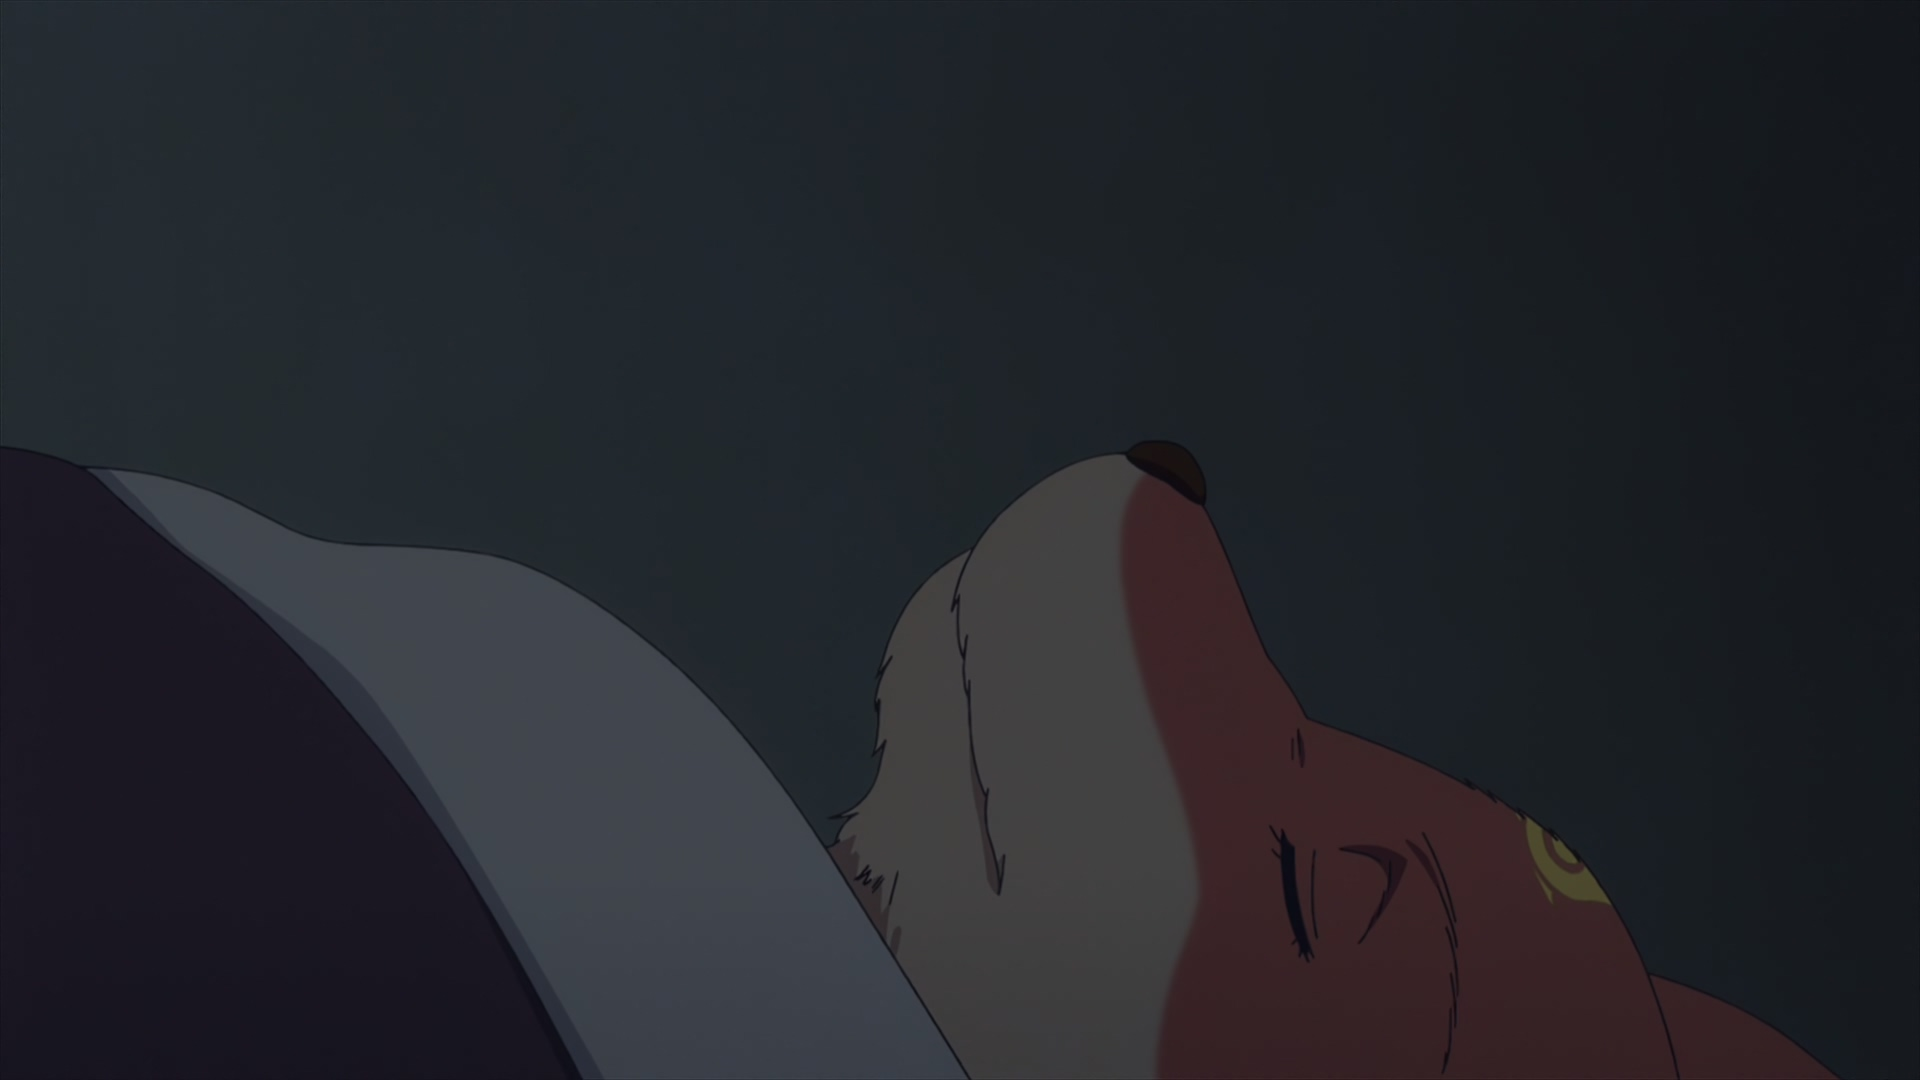椿: (818, 440, 1836, 1080)
